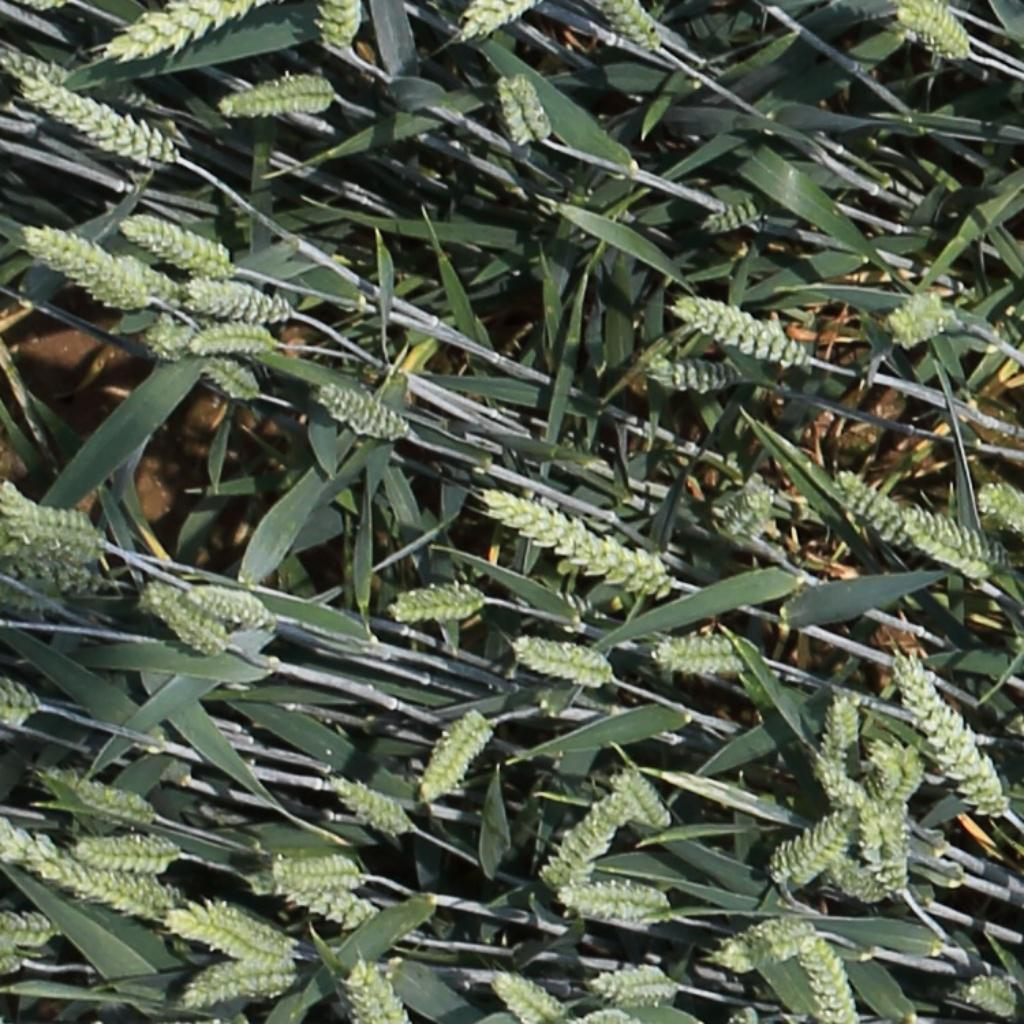0-0: (888, 644, 1012, 820), (484, 489, 677, 595), (0, 817, 178, 918), (19, 77, 173, 161), (21, 225, 156, 308), (166, 895, 310, 966), (1, 50, 160, 112), (540, 785, 634, 888), (675, 296, 805, 364), (242, 864, 372, 929), (782, 915, 853, 1022), (413, 709, 492, 805), (117, 215, 236, 276), (831, 468, 917, 550), (140, 585, 235, 655), (767, 812, 851, 882), (180, 958, 299, 1007), (902, 510, 1006, 566), (718, 462, 786, 546), (512, 634, 613, 689), (2, 500, 109, 551), (315, 383, 408, 438), (555, 883, 679, 924), (182, 278, 294, 323), (860, 796, 907, 901), (51, 774, 151, 823), (586, 960, 680, 1012), (4, 541, 99, 591), (100, 253, 189, 306), (712, 913, 793, 969), (499, 68, 554, 147), (219, 78, 336, 115), (608, 765, 669, 835), (327, 780, 406, 834), (894, 1, 969, 56), (70, 835, 181, 872), (348, 955, 405, 1024), (654, 630, 744, 673), (182, 587, 274, 629), (389, 583, 487, 622), (868, 740, 924, 803), (596, 0, 660, 55), (271, 854, 370, 889), (885, 290, 947, 343), (490, 972, 554, 1022), (823, 857, 887, 905), (818, 690, 857, 765), (641, 360, 734, 391), (185, 324, 275, 356), (454, 2, 525, 42), (320, 0, 363, 58), (197, 356, 256, 398), (963, 975, 1018, 1017), (980, 486, 1024, 537), (1, 911, 55, 944), (701, 202, 761, 229), (0, 681, 40, 715)
